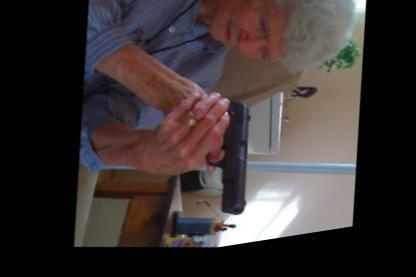pistol: (172, 88, 261, 227)
